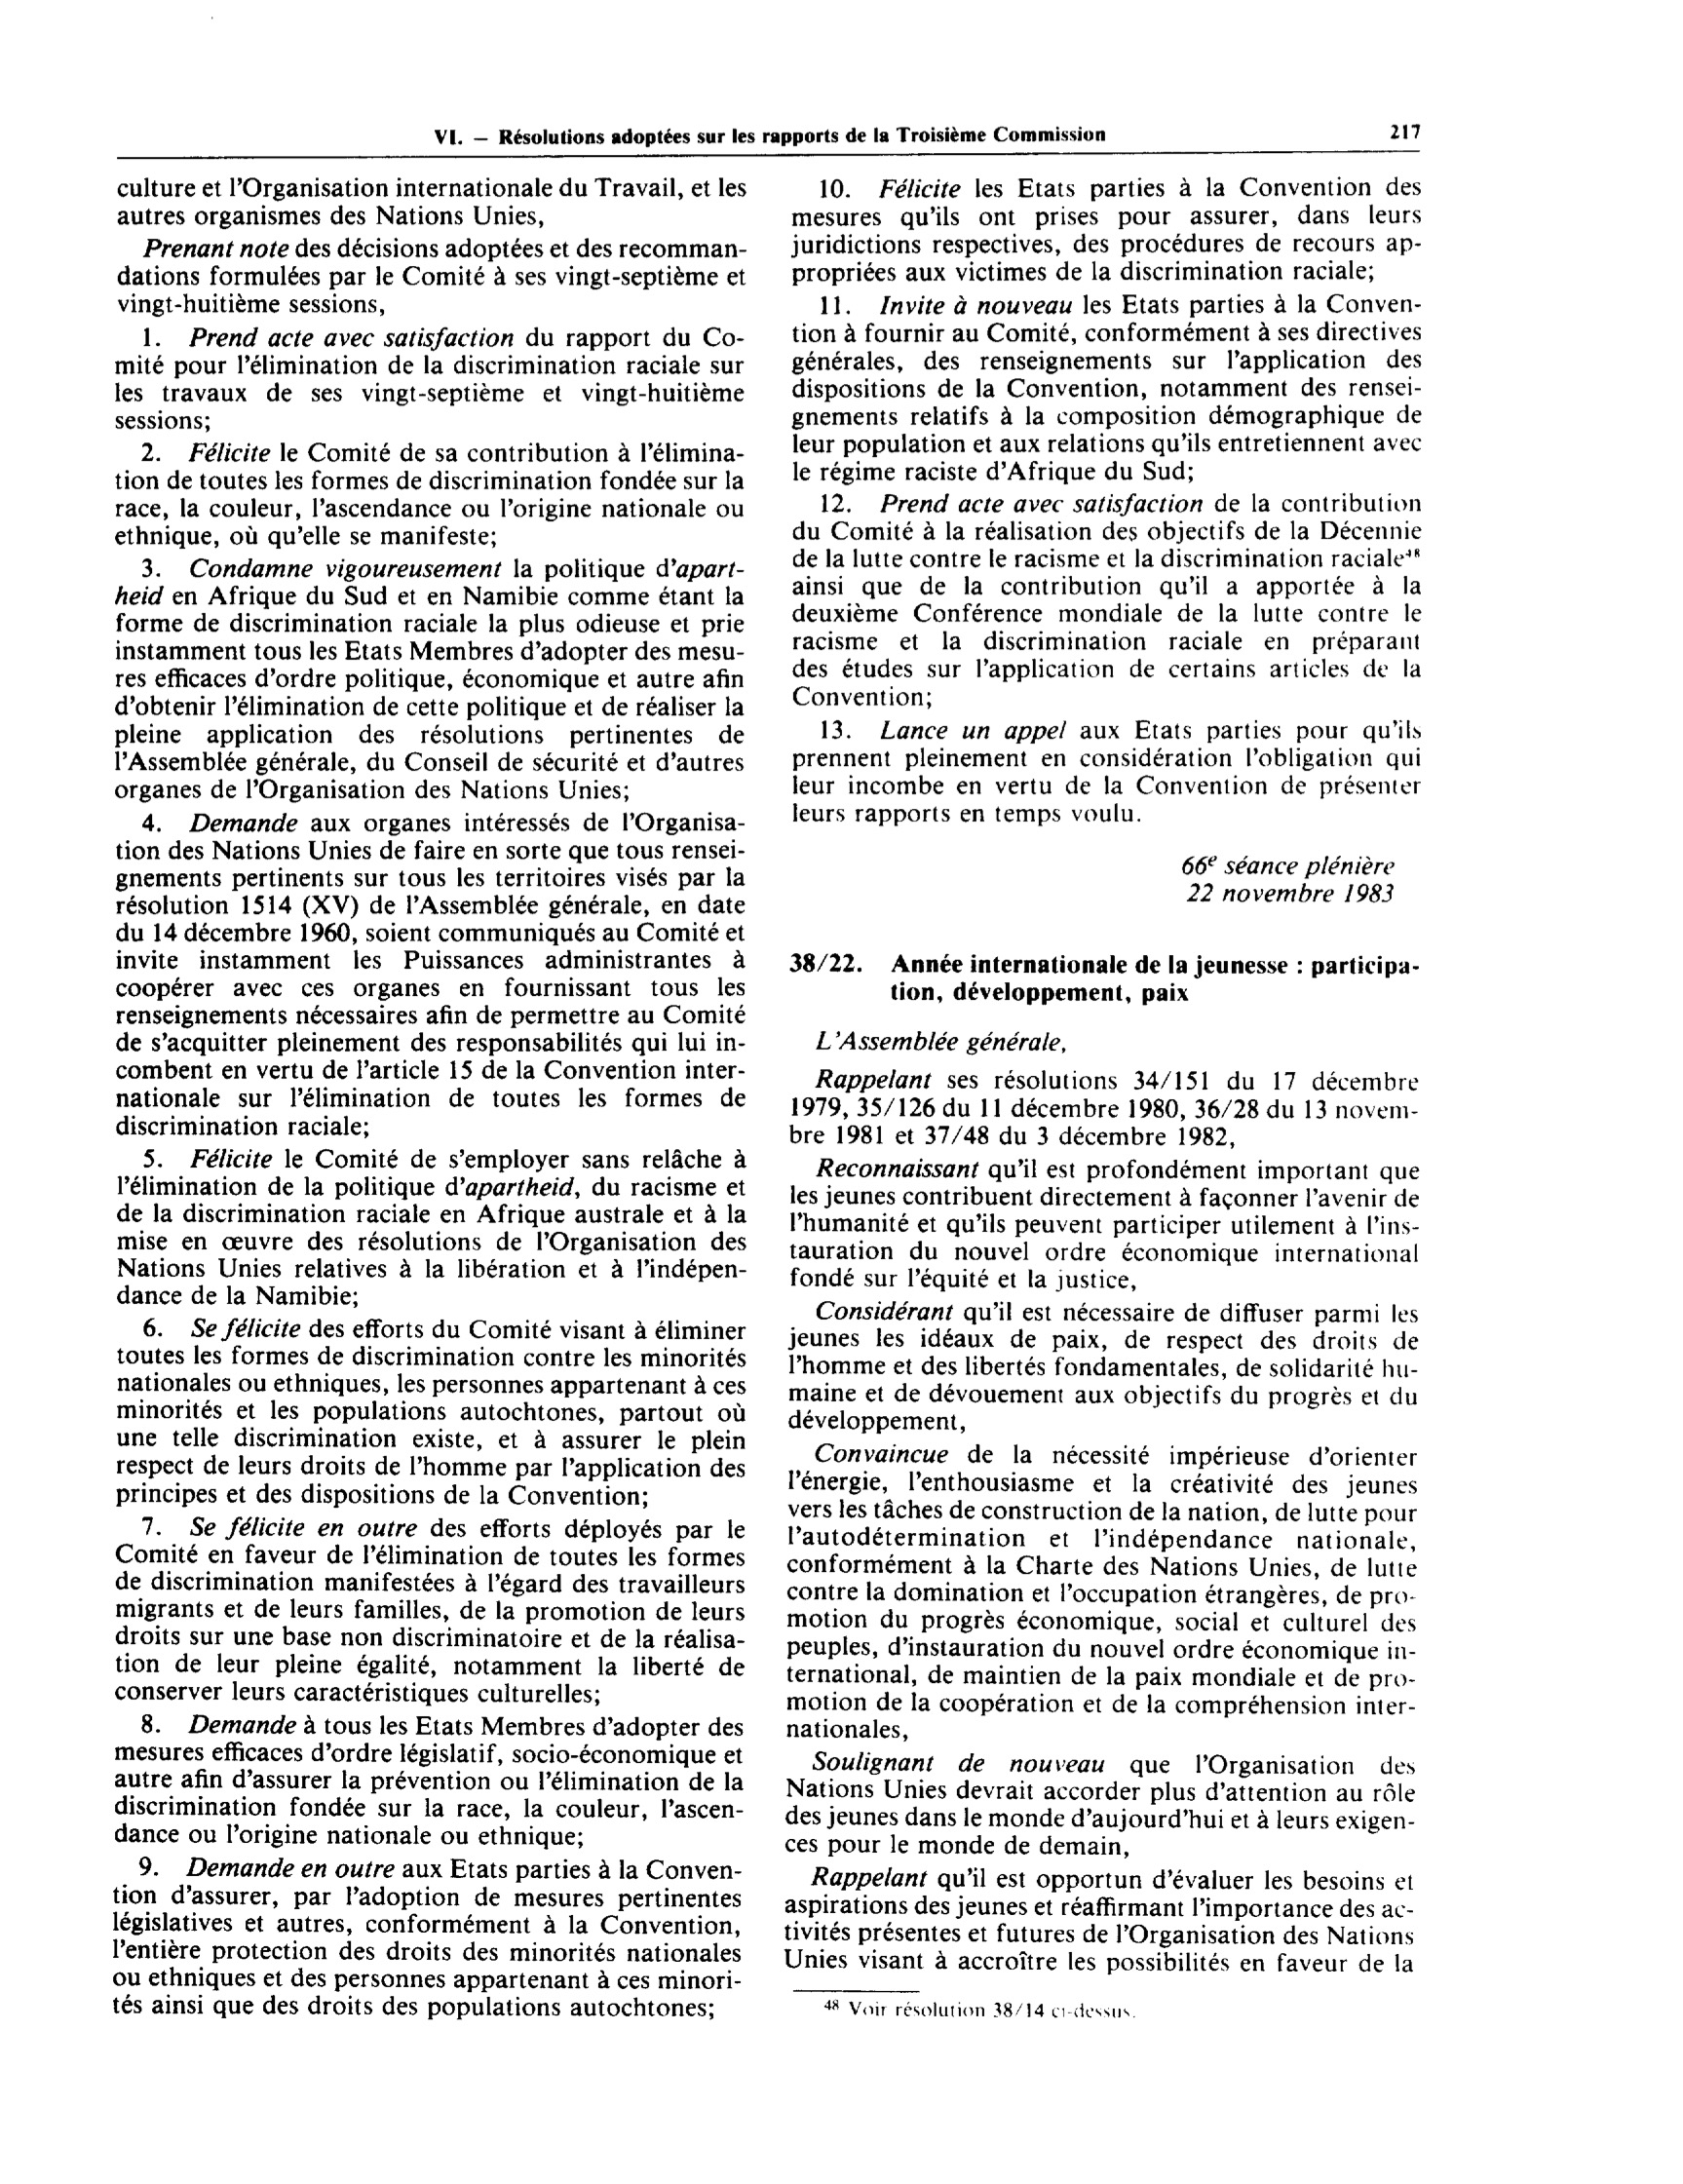MainZone-Continued: (107, 169, 755, 232)
MainZone-Date: (1183, 882, 1409, 911)
MainZone-Head: (784, 943, 1426, 1012)
MainZone-ListItem: (108, 807, 753, 1144), (106, 551, 753, 803), (785, 486, 1431, 711), (785, 287, 1431, 485), (107, 1511, 752, 1708), (109, 1313, 753, 1510), (104, 1850, 751, 2025), (108, 1143, 754, 1310), (106, 1708, 753, 1851), (784, 168, 1432, 286), (786, 713, 1430, 831), (106, 435, 753, 551), (105, 321, 753, 433)
MainZone-P: (781, 1440, 1426, 1743), (783, 1297, 1426, 1437), (784, 1154, 1422, 1294), (779, 1862, 1423, 1979), (781, 1748, 1424, 1860), (784, 1061, 1425, 1151), (108, 233, 755, 319), (794, 1019, 1076, 1057)
MainZone-Signature: (1169, 847, 1405, 884)
MarginTextZone-Notes: (815, 1992, 1144, 2031)
NumberingZone: (1382, 115, 1427, 150)
RunningTitleZone: (428, 116, 1117, 157)
